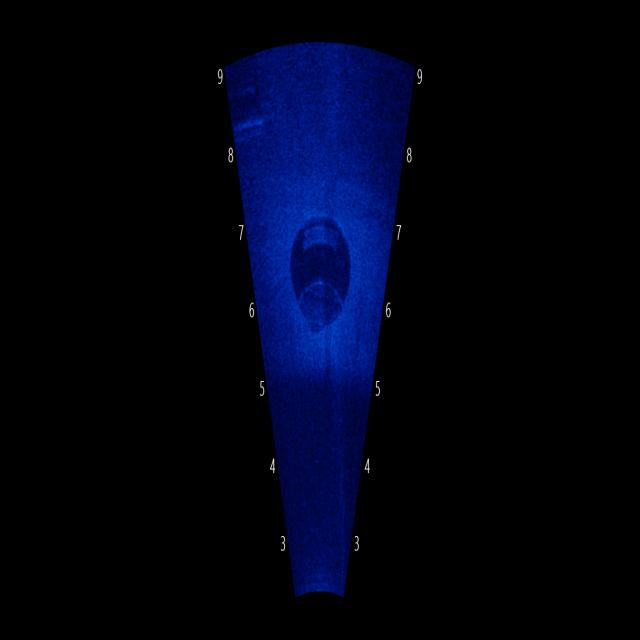circle: (280, 194, 362, 355)
